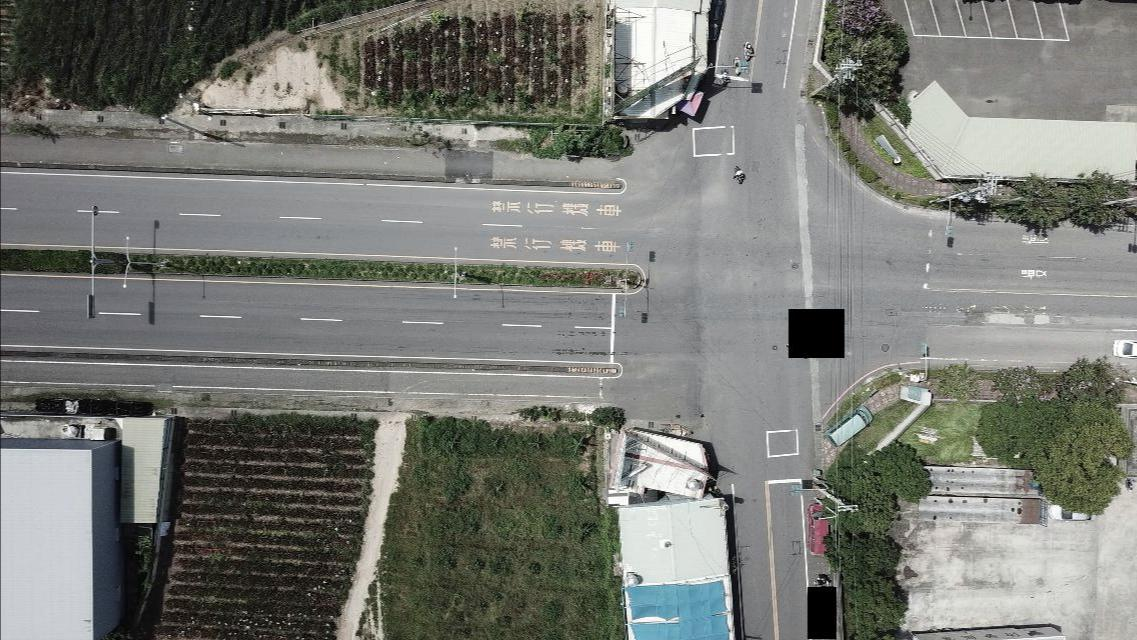vehicle: (826, 409, 869, 447), (1049, 500, 1098, 523), (709, 0, 725, 44), (1110, 338, 1136, 360)
